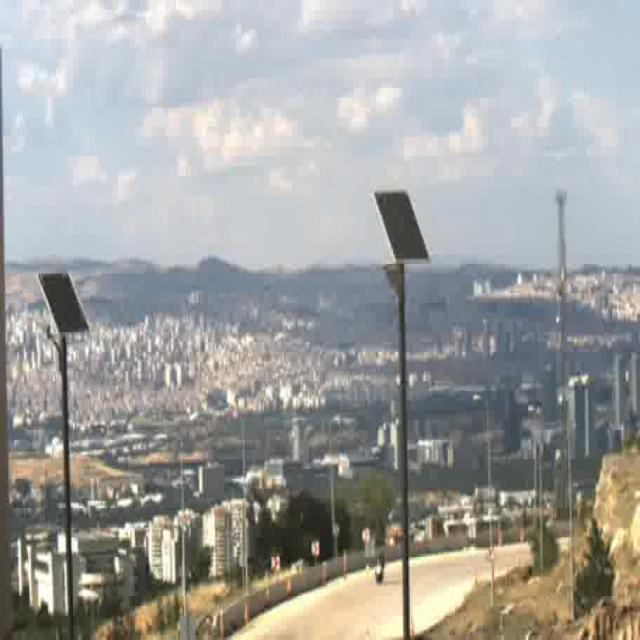Motorcycle: (373, 553, 386, 583)
